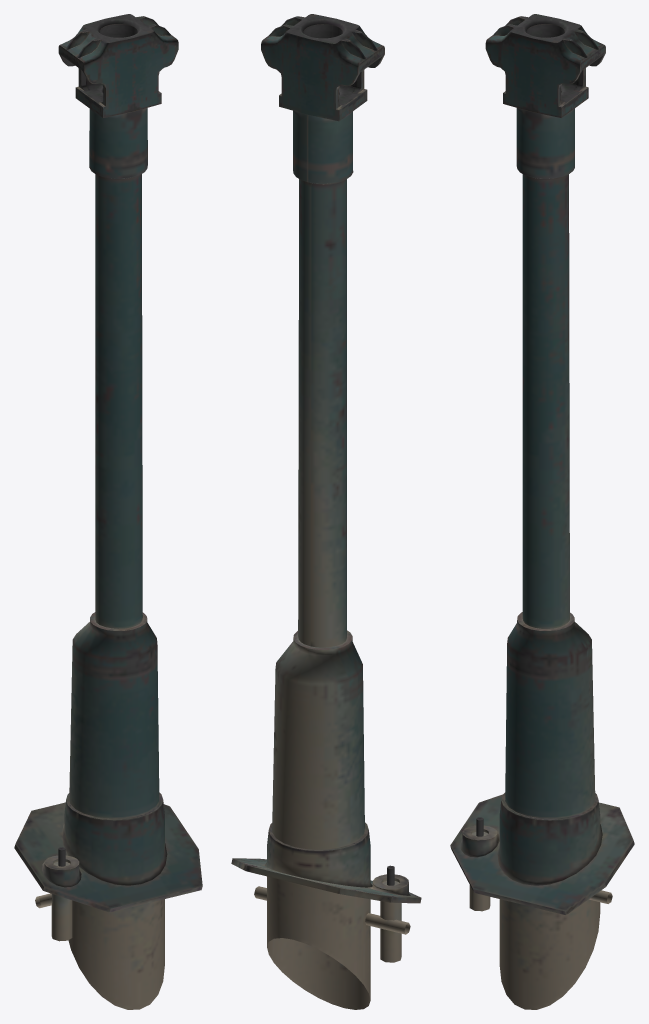
Rendered from Gun_03.glb.
The picture shows the model from 3 angles, left to right: view 1: azimuth 30°, elevation 25°; view 2: azimuth 150°, elevation 25°; view 3: azimuth 330°, elevation 25°; orthographic projection. The views are drawn at different scales.
Visible parts, largest first — view 1: set_0_group_0; view 2: set_0_group_0; view 3: set_0_group_0.
Boxes of the visible parts, box(x1,y1,x2,y2) form: set_0_group_0: box(14, 14, 202, 1009); set_0_group_0: box(231, 14, 421, 1009); set_0_group_0: box(450, 14, 634, 1009).
Bounding box in the file's own units: 0.5045 × 3.01 × 0.3884.
Materials: 1 (1 with a texture image).
